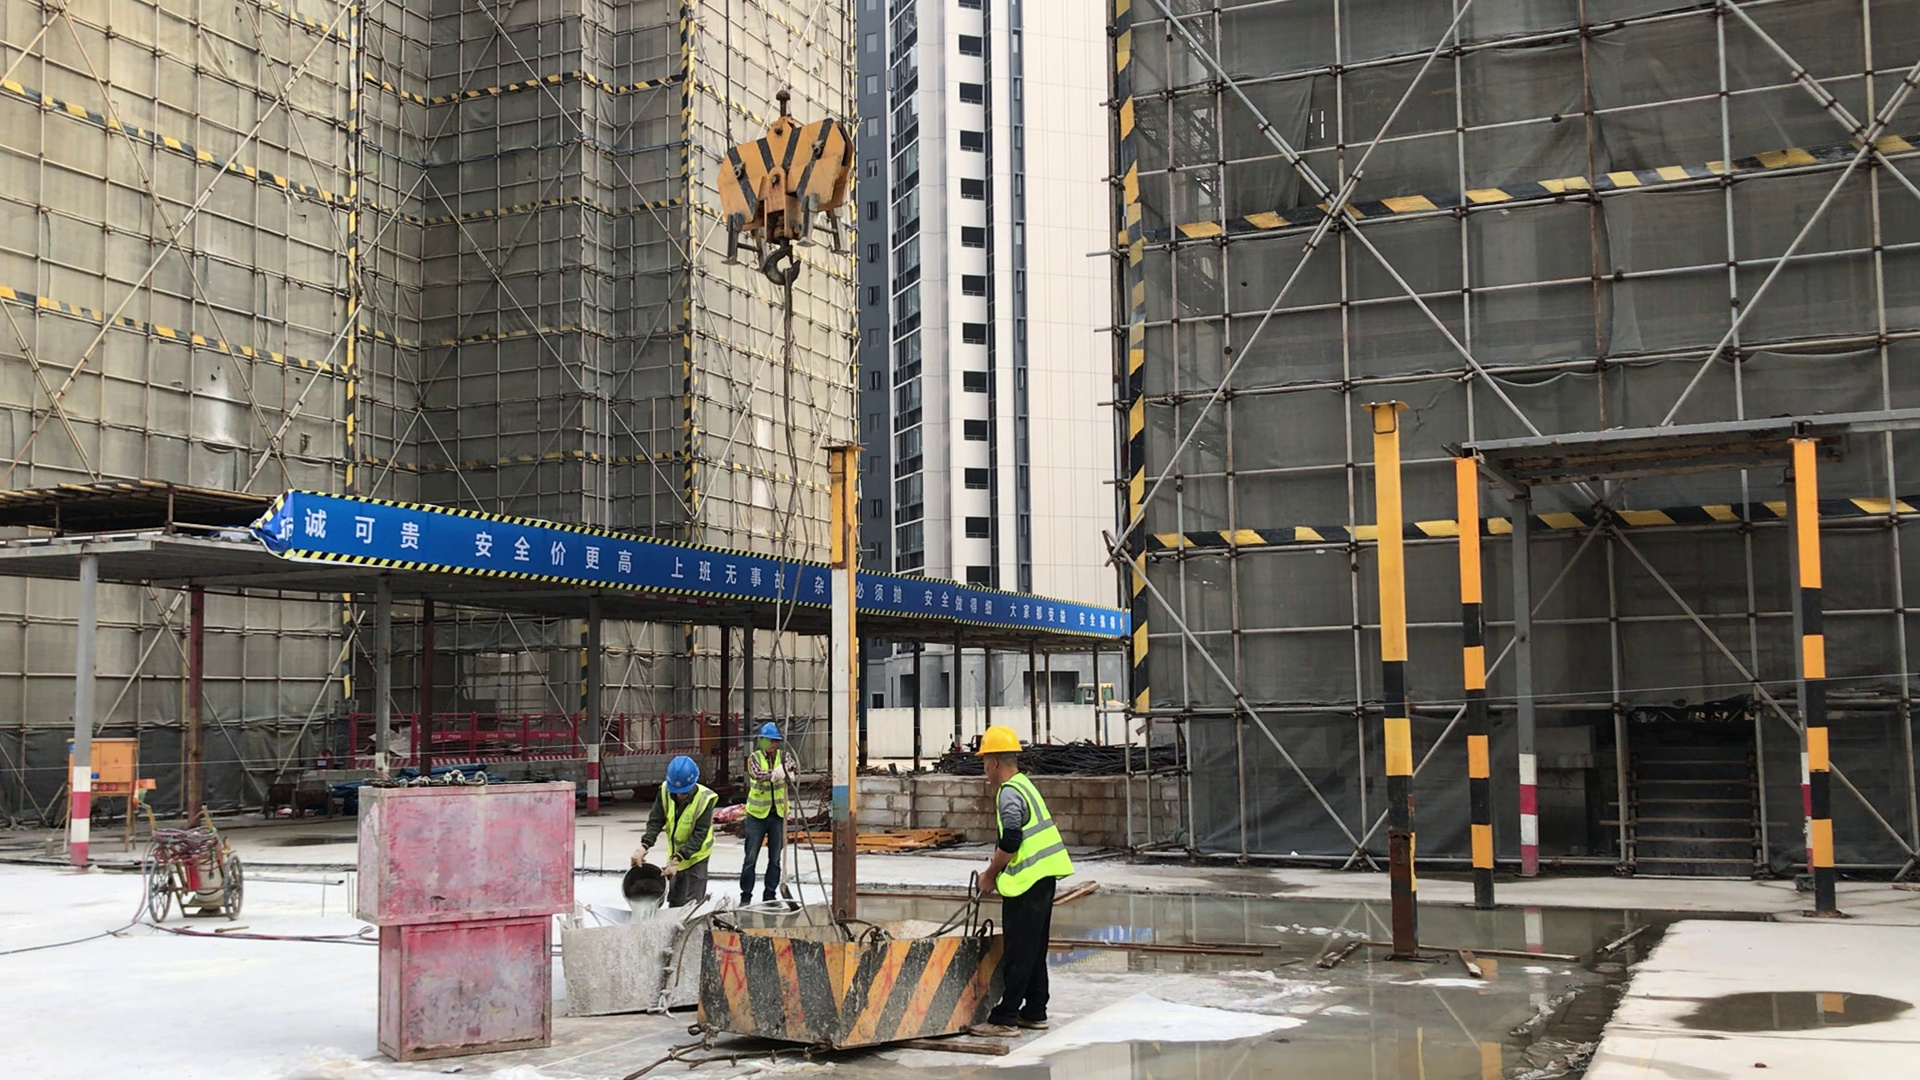ebox: (60, 730, 156, 813)
fence: (328, 708, 726, 772)
handcart: (118, 809, 247, 926)
helmet: (977, 726, 1019, 763), (659, 756, 699, 787), (758, 715, 786, 742)
hook: (697, 78, 849, 286)
hopper: (714, 909, 1004, 1061), (545, 900, 774, 1017)
person: (958, 711, 1075, 1027), (626, 742, 729, 920), (744, 705, 808, 900)
slogan: (245, 493, 1133, 646)
vest: (989, 786, 1066, 901), (645, 782, 722, 871), (745, 743, 799, 822)
